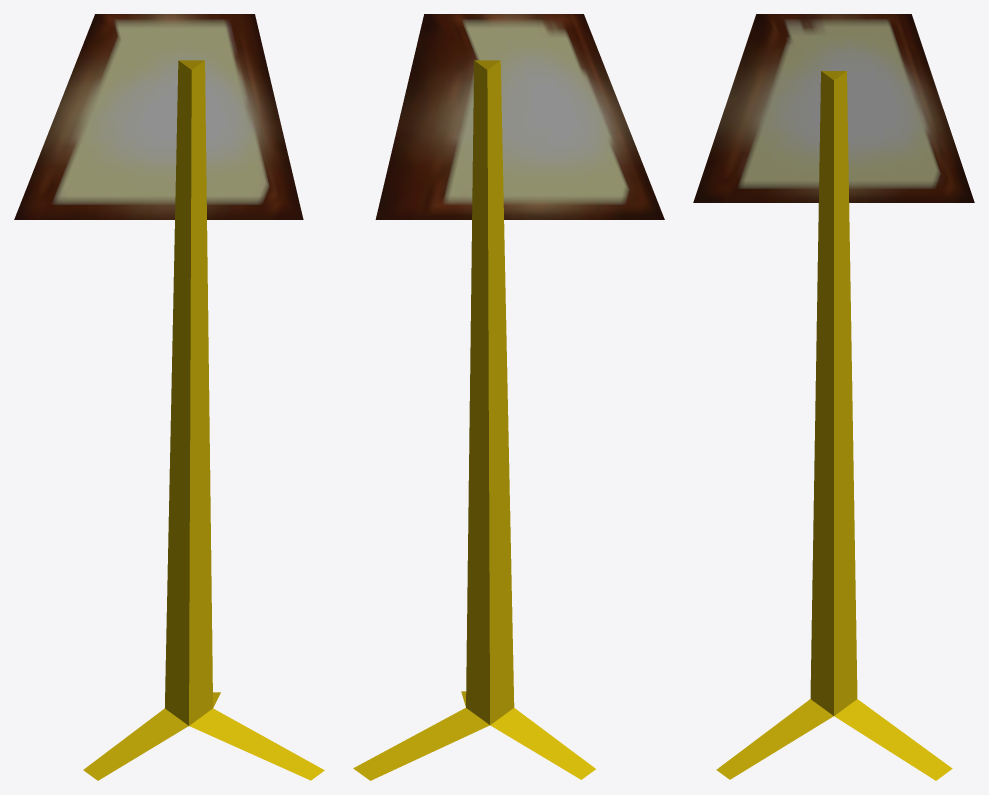
Rendered from Stehlampe [Papier]_1603.glb.
3 views of the same model, side by side, from view 1: azimuth 30°, elevation 25°; view 2: azimuth 150°, elevation 25°; view 3: azimuth 270°, elevation 25° (orthographic). The views are drawn at different scales.
Parts seen in each view (by area): view 1: pCylinderShape39, pCylinderShape37, pPlaneShape31, pPlaneShape29; view 2: pCylinderShape39, pCylinderShape37, pPlaneShape30, pPlaneShape29; view 3: pCylinderShape39, pCylinderShape37, pPlaneShape30, pPlaneShape31.
Boxes of the visible parts, x1,y1,x2,y2 form: pCylinderShape39: (14, 14, 303, 219); pCylinderShape37: (165, 60, 212, 725); pPlaneShape31: (189, 708, 324, 780); pPlaneShape29: (83, 708, 188, 780); pCylinderShape39: (375, 14, 664, 219); pCylinderShape37: (466, 60, 514, 725); pPlaneShape30: (353, 708, 489, 780); pPlaneShape29: (490, 708, 595, 779); pCylinderShape39: (693, 14, 974, 202); pCylinderShape37: (810, 71, 857, 715); pPlaneShape30: (834, 699, 952, 780); pPlaneShape31: (716, 699, 833, 779).
Size of the model in its own units: 0.091 by 0.2888 by 0.1051.
5 materials, 1 textured.
